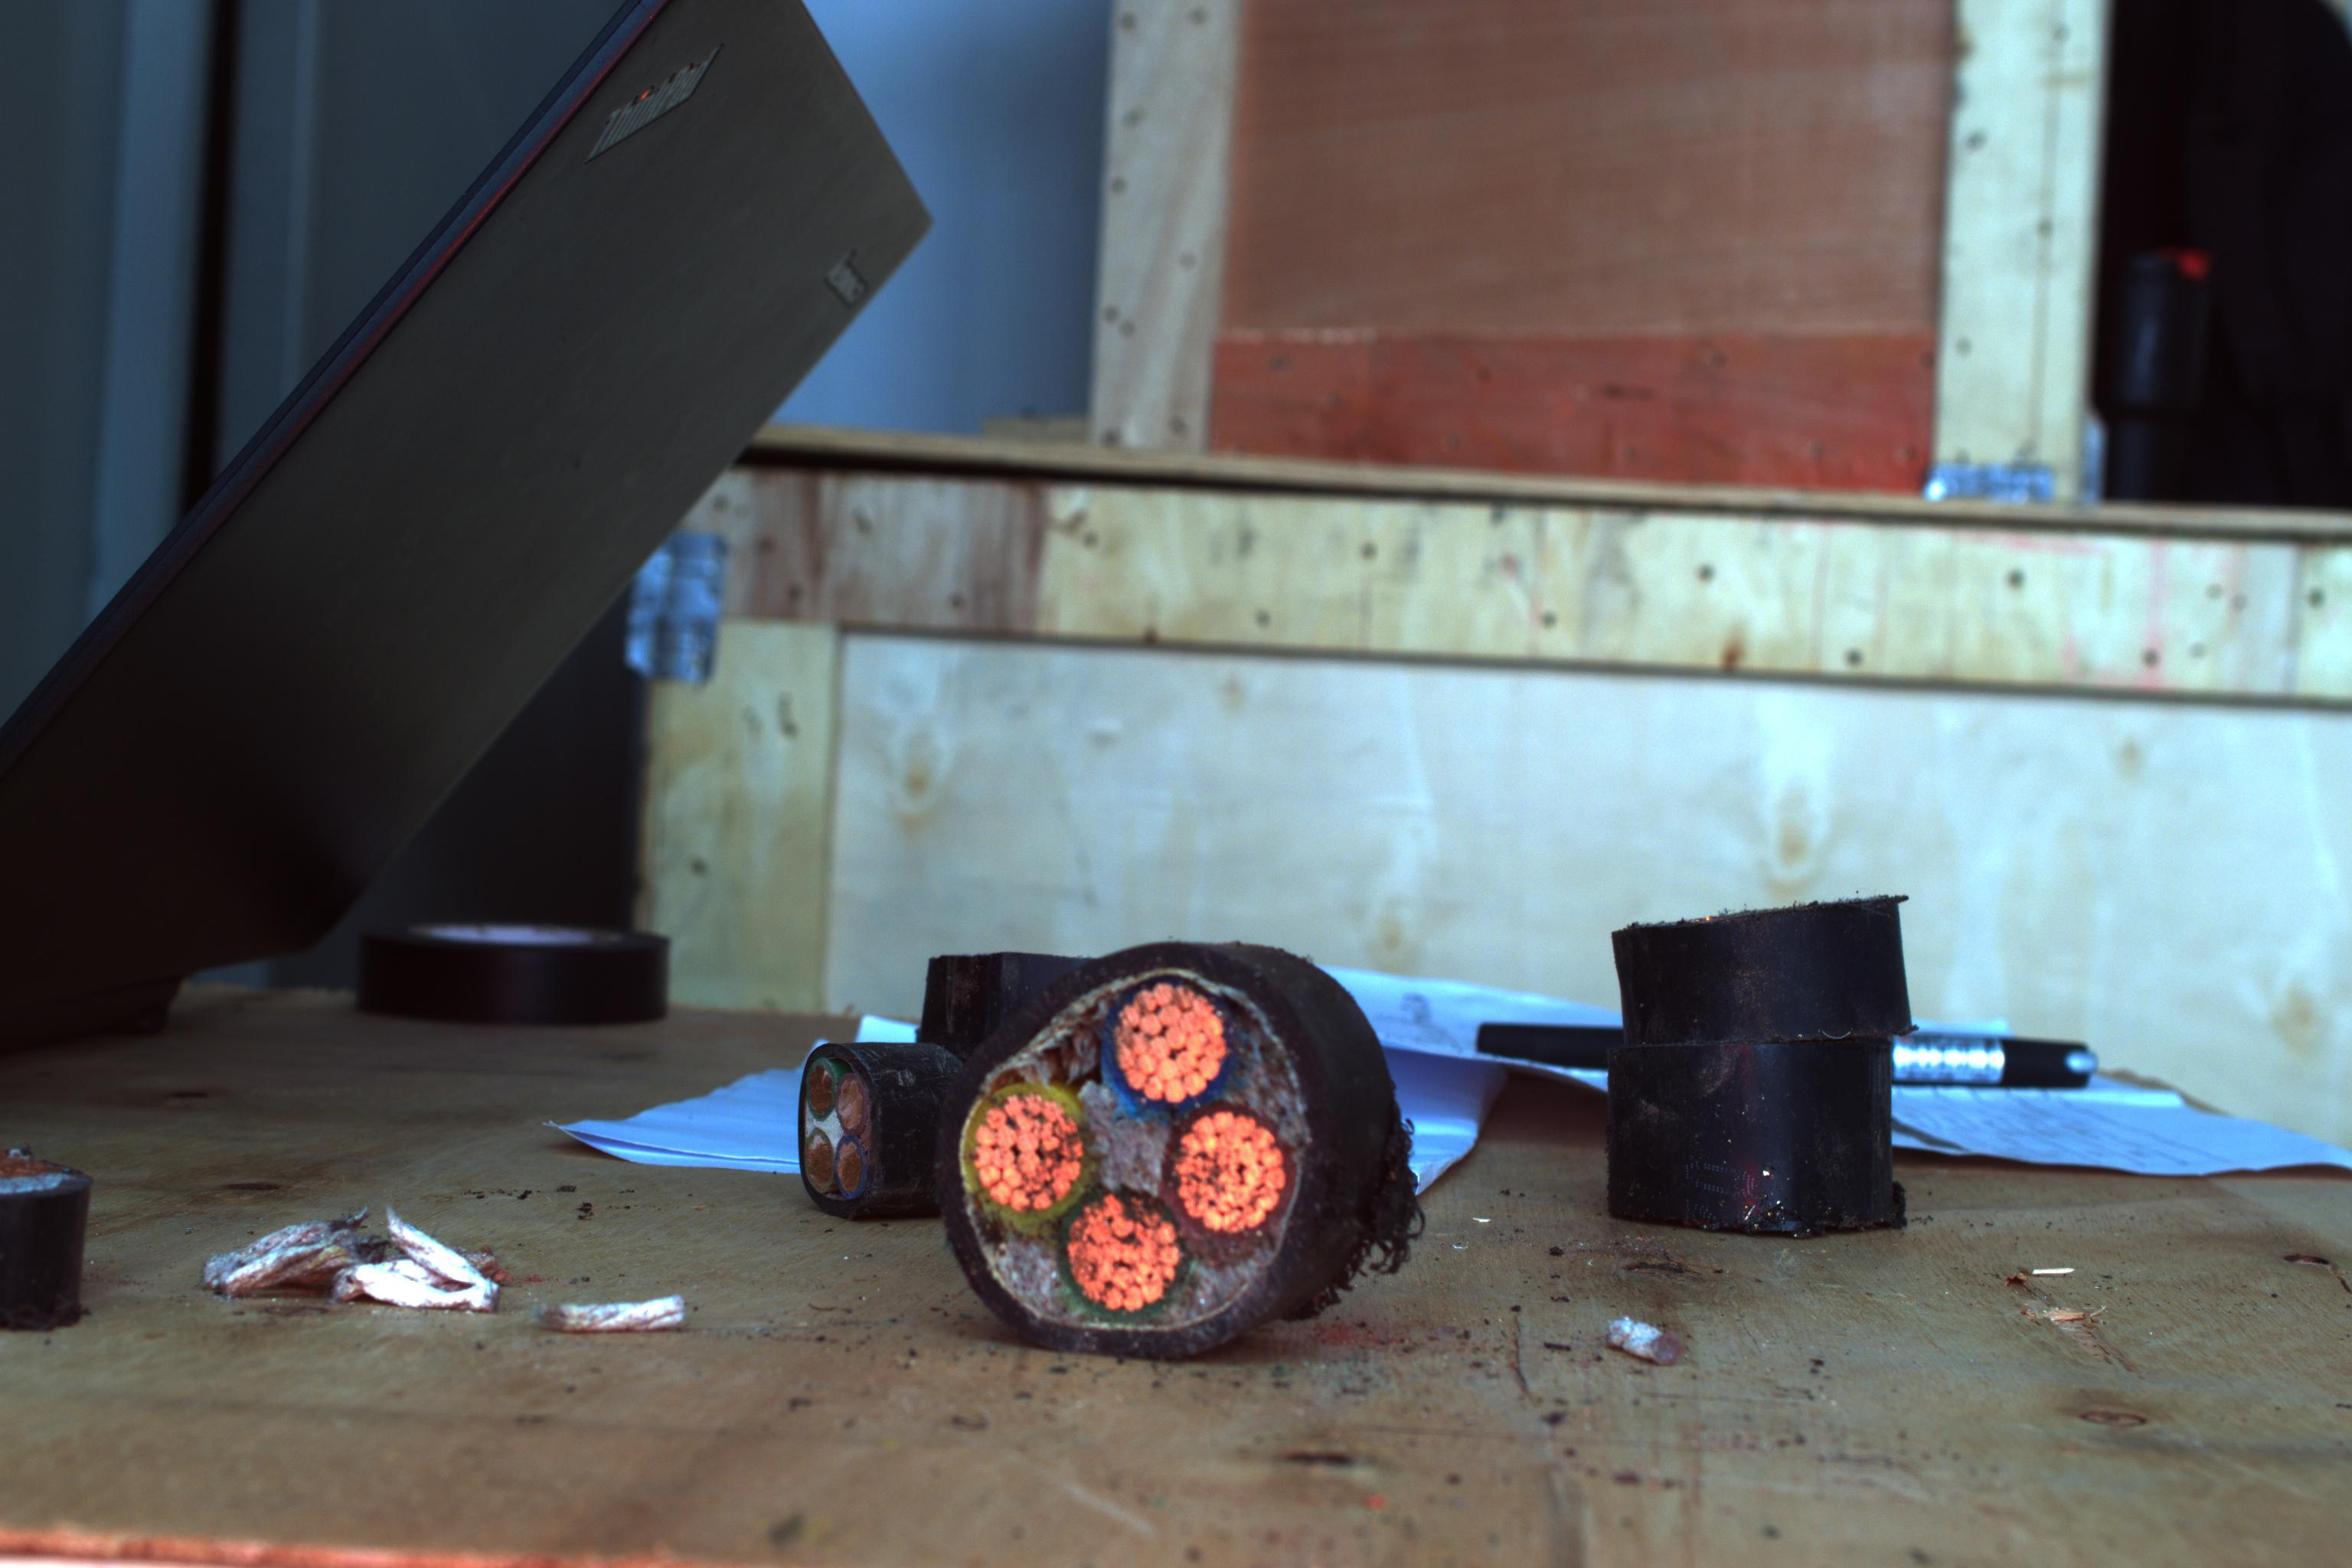YJV_0.6_1kV_4x120: (948, 945, 1319, 1333)
